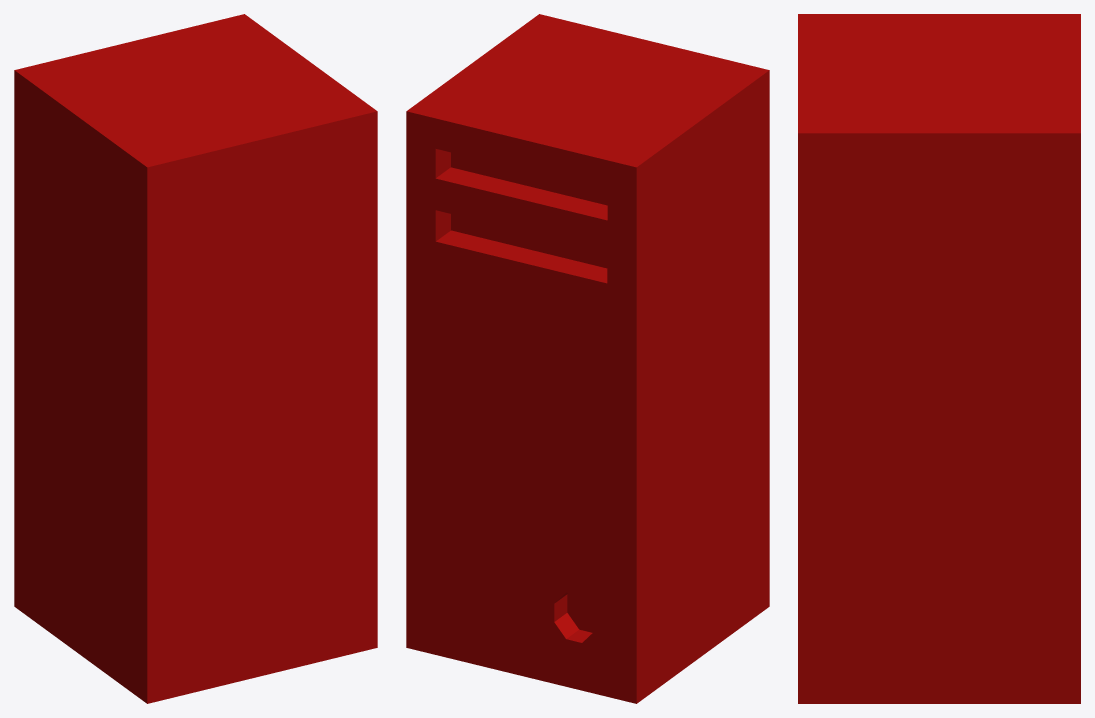
Rendered from Monopoly_GamePeices_Server.fbx.
3 views of the same model, side by side, from view 1: azimuth 30°, elevation 25°; view 2: azimuth 150°, elevation 25°; view 3: azimuth 270°, elevation 25° (orthographic). The views are drawn at different scales.
Parts seen in each view (by area): view 1: Server; view 2: Server; view 3: Server.
Part boxes in pixels (left/top/right/bottom): Server: left=14, top=14, right=377, bottom=703; Server: left=406, top=14, right=769, bottom=703; Server: left=798, top=14, right=1080, bottom=703.
Size of the model in its own units: 46.95 by 105 by 46.95.
